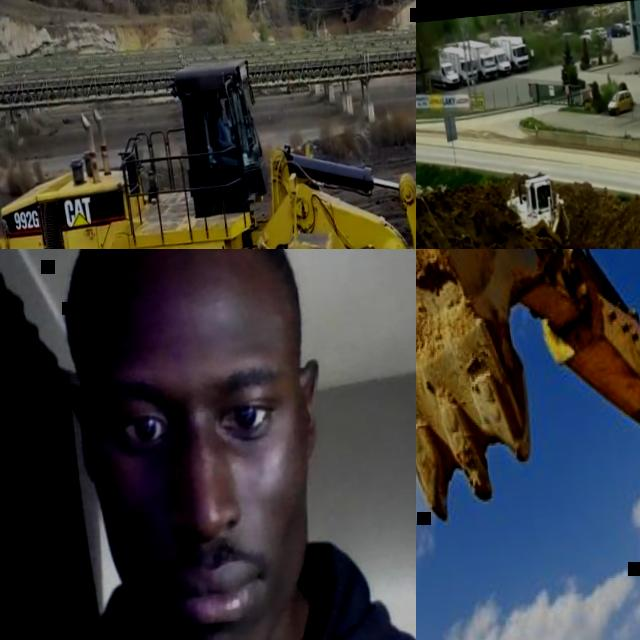NO-Hardhat: (51, 249, 304, 321), (214, 101, 222, 112)
NO-Mask: (95, 465, 321, 640), (219, 111, 225, 117)
NO-Safety Vest: (215, 118, 230, 147)
Person: (0, 249, 416, 640), (213, 100, 236, 154)
vehicle: (0, 23, 416, 249), (416, 249, 640, 640), (502, 169, 572, 249), (457, 37, 498, 84), (437, 43, 479, 88), (490, 32, 530, 76), (425, 60, 460, 93), (606, 89, 634, 116), (490, 45, 511, 76), (542, 10, 559, 33), (607, 22, 627, 40), (578, 28, 595, 43), (593, 27, 608, 43), (623, 21, 630, 35)
